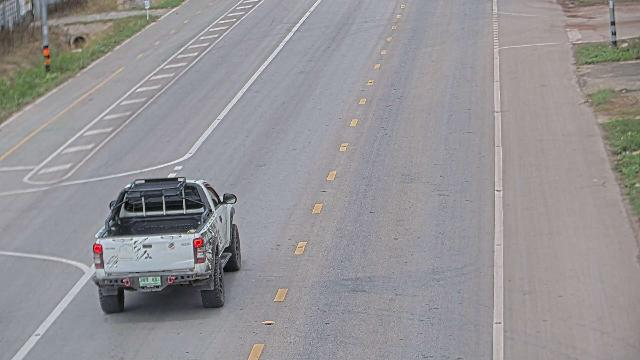pickup-truck: (90, 175, 242, 314)
